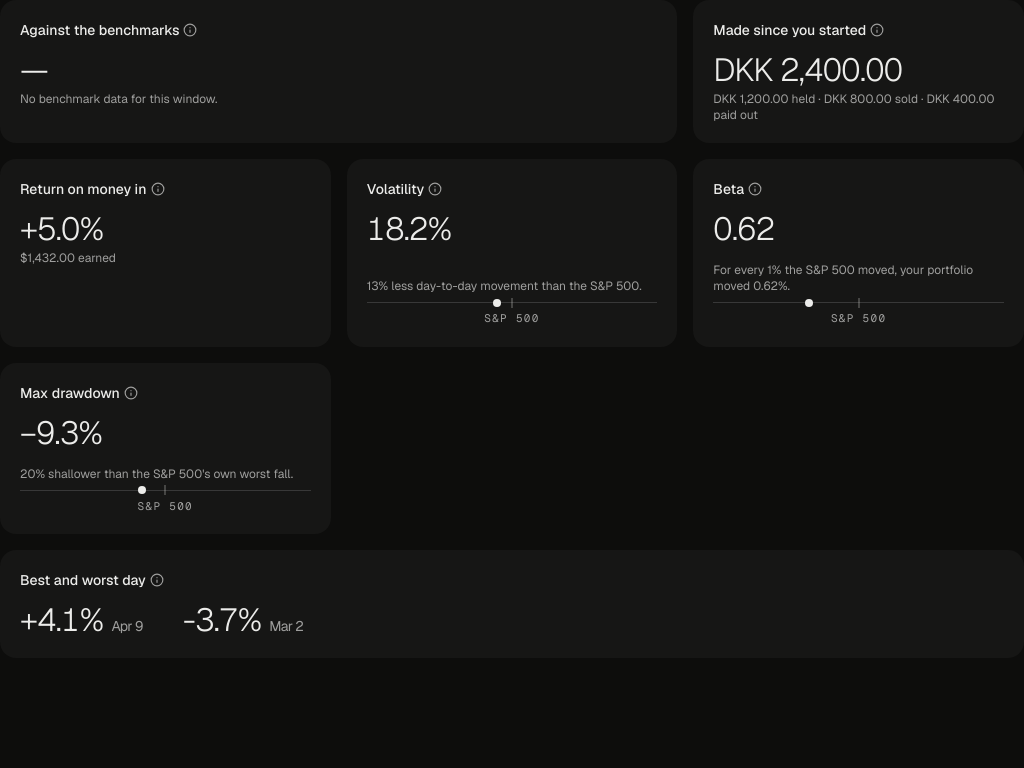
Scenario: PerfMetrics › leads with the figure and moves the definition into a tooltip
This screenshot has width=1024, height=768.
Expected: the text "How much the portfolio moved day to day" is not shown
Click the button named "about: volatility". click: (435, 189)
box: [428,182,442,196]
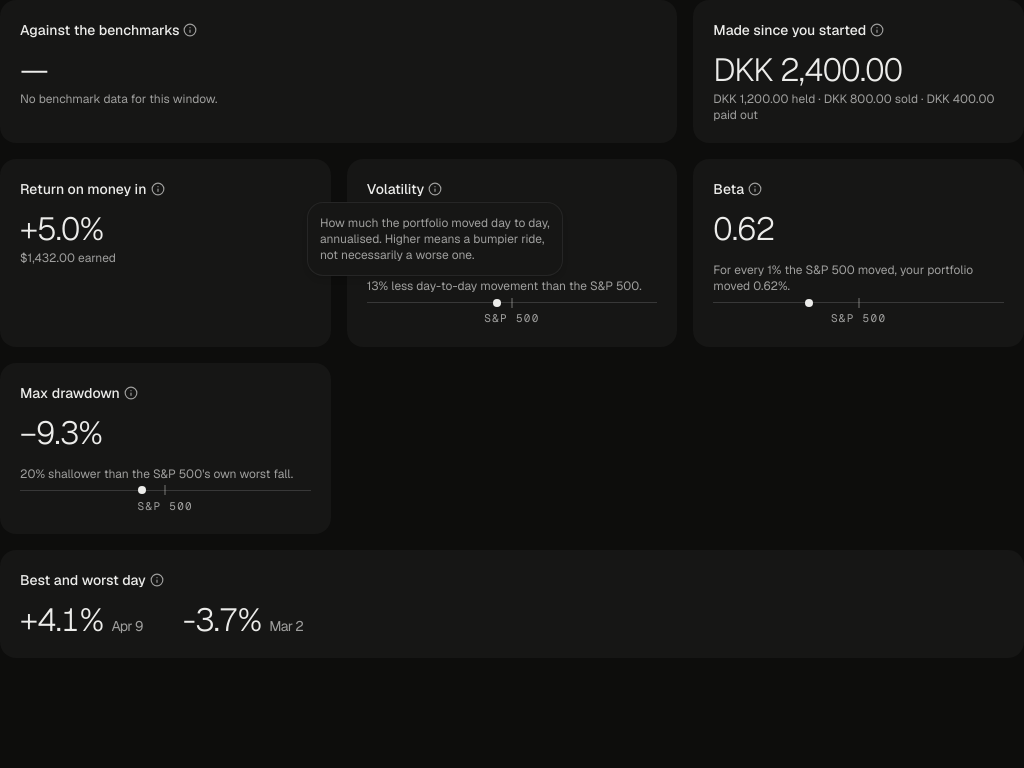
Now the text "How much the portfolio moved day to day" is shown, box [320,215,550,263]
